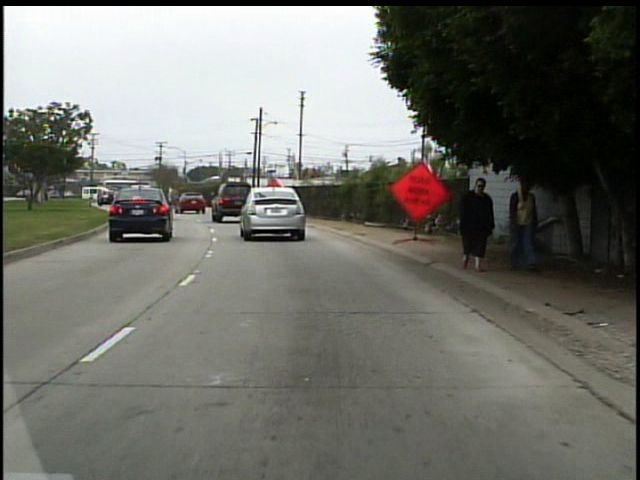person: (449, 173, 498, 276), (501, 167, 545, 280)
